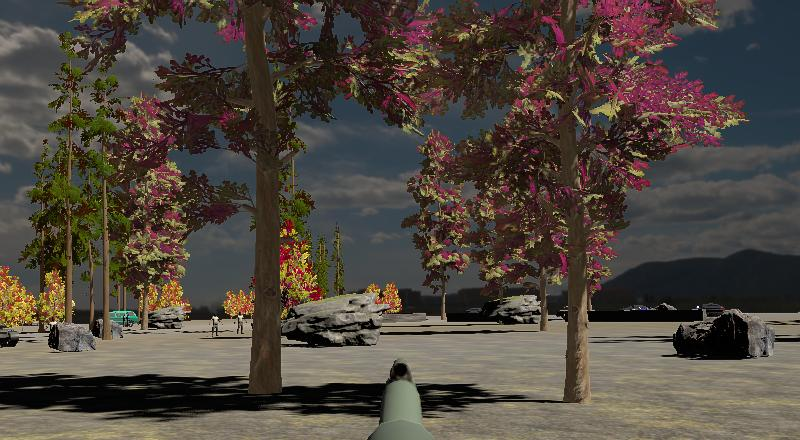Tank: (0, 322, 21, 348)
car: (108, 309, 139, 328)
